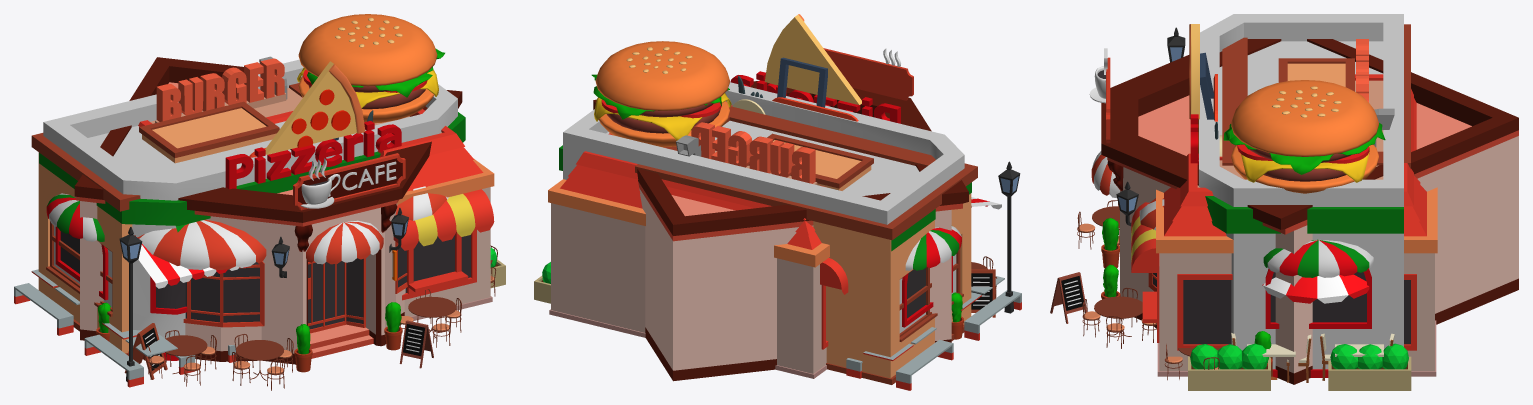
Rendered from business.glb.
3 renders of one model, left to right at view 1: azimuth 30°, elevation 25°; view 2: azimuth 150°, elevation 25°; view 3: azimuth 270°, elevation 25°, orthographic. The views are drawn at different scales.
Visible parts, largest first — view 1: CafeBuilding, BurgerBuilding, PizzaBuilding, RestaurantBuilding; view 2: BurgerBuilding, CafeBuilding, PizzaBuilding, RestaurantBuilding, ShopBuilding; view 3: CafeBuilding, BurgerBuilding, PizzaBuilding, RestaurantBuilding.
Part boxes in pixels (x1=…): CafeBuilding: x1=74, y1=57, x2=497, y2=390; BurgerBuilding: x1=14, y1=14, x2=505, y2=387; PizzaBuilding: x1=39, y1=59, x2=465, y2=360; RestaurantBuilding: x1=31, y1=56, x2=373, y2=381; BurgerBuilding: x1=534, y1=41, x2=1021, y2=390; CafeBuilding: x1=593, y1=48, x2=996, y2=381; PizzaBuilding: x1=559, y1=14, x2=971, y2=333; RestaurantBuilding: x1=635, y1=75, x2=1020, y2=384; ShopBuilding: x1=772, y1=97, x2=858, y2=121; CafeBuilding: x1=1050, y1=39, x2=1518, y2=384; BurgerBuilding: x1=1131, y1=39, x2=1437, y2=390; PizzaBuilding: x1=1189, y1=14, x2=1403, y2=377; RestaurantBuilding: x1=1167, y1=24, x2=1410, y2=382.
Bounding box in the file's own units: 1.6 × 1.03 × 1.57.
1 material, 1 textured.
